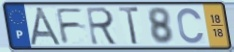8: (146, 5, 176, 47)
A: (28, 6, 65, 47)
C: (176, 7, 206, 46)
F: (54, 7, 86, 46)
R: (85, 6, 120, 47)
T: (117, 6, 141, 47)
